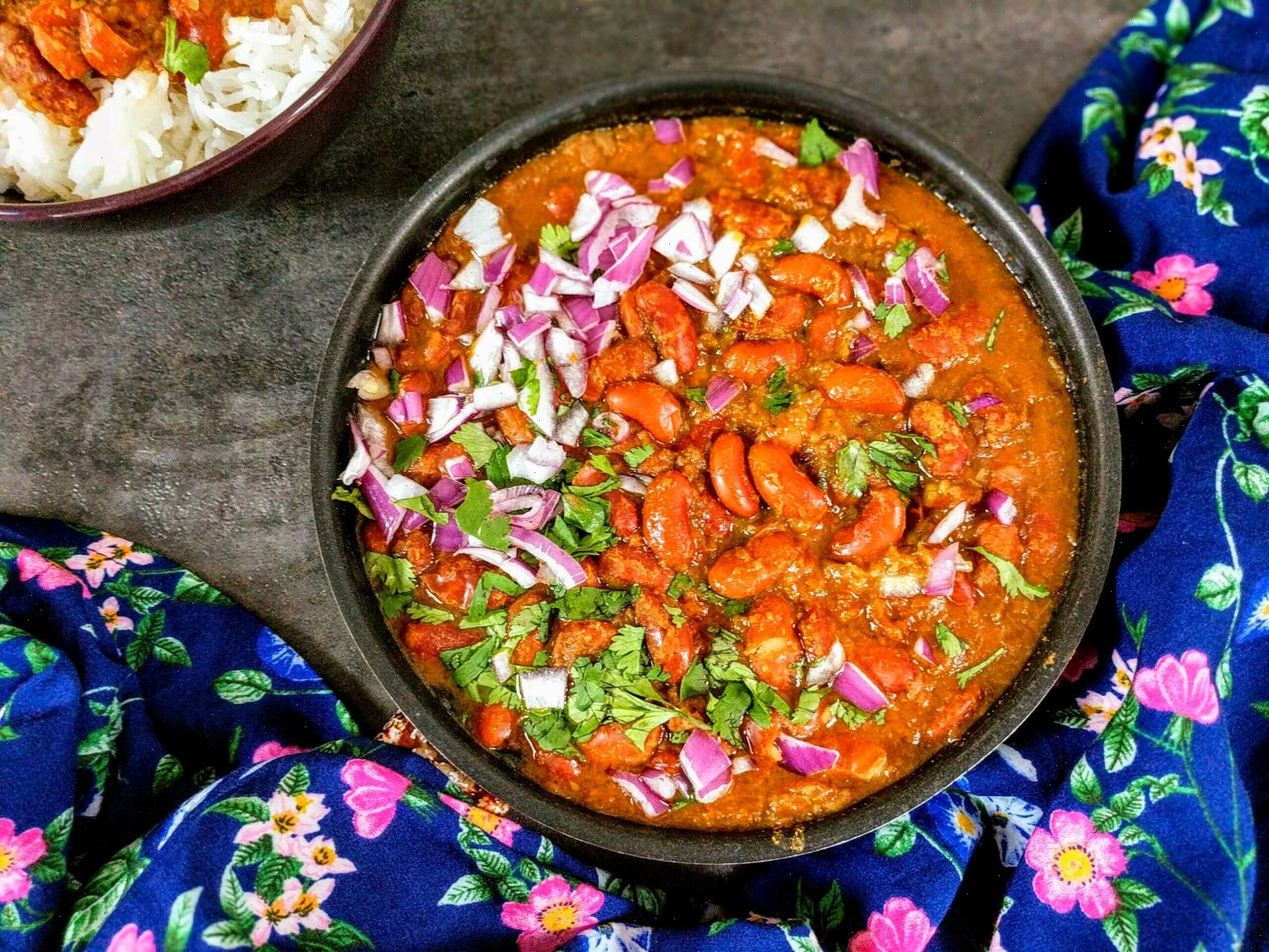rajma: (372, 154, 1108, 823)
